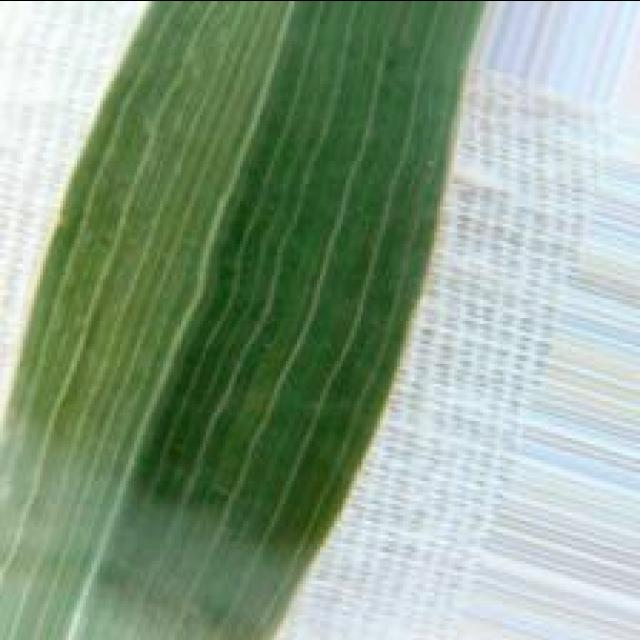Healthy: (0, 0, 486, 640)
